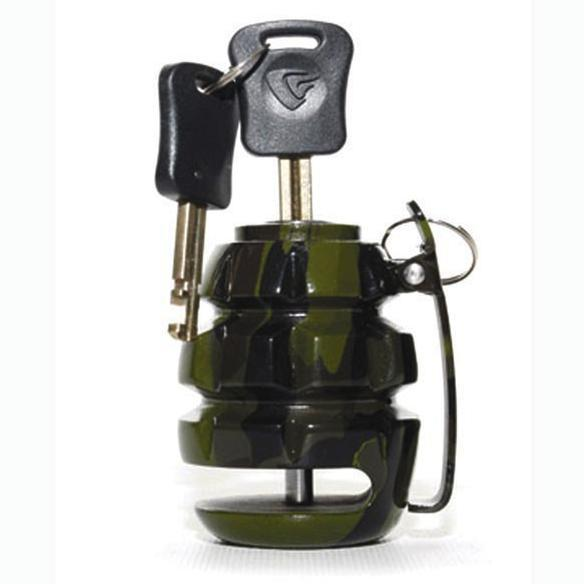Grenade: (155, 20, 476, 550)
